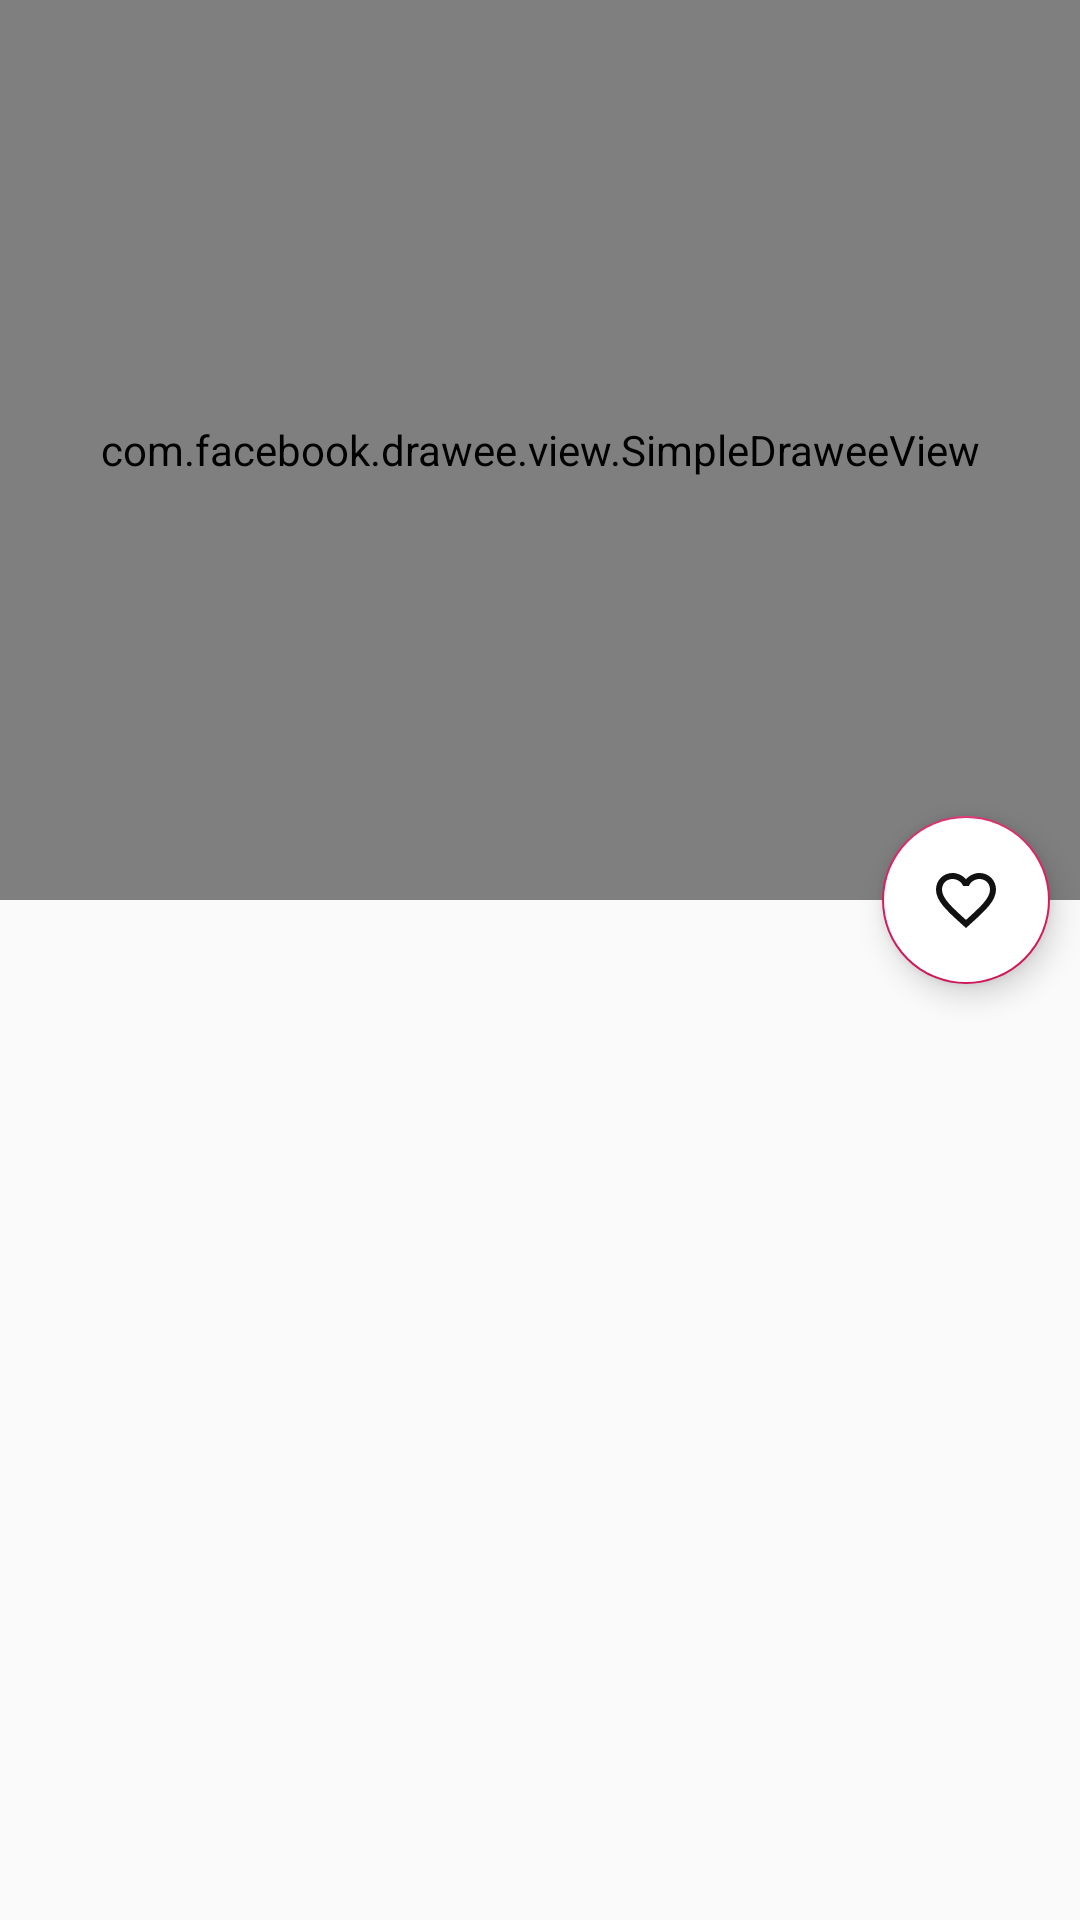

Where to tap for icons on this 1080x1920 app screen, as (x,y):
favorite border: (966,900)
